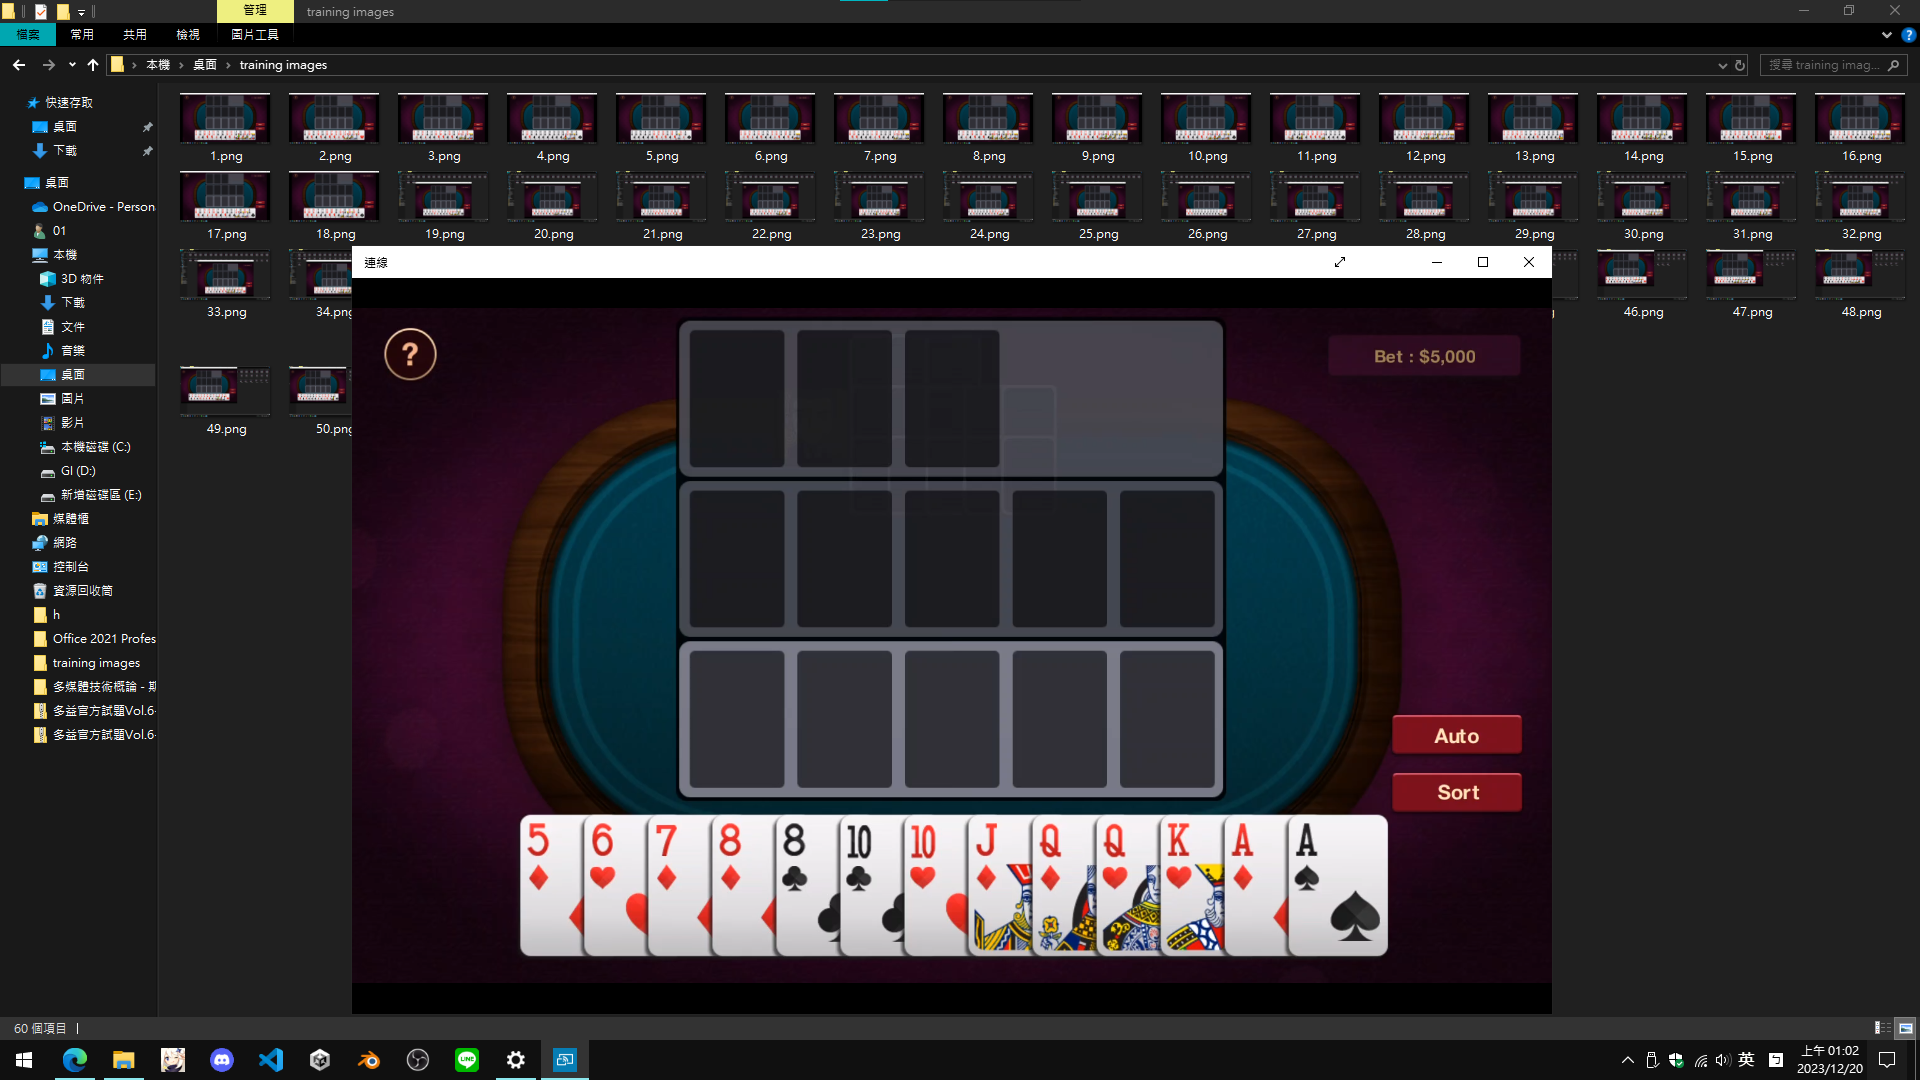10C: (845, 822, 875, 895)
10H: (907, 821, 941, 891)
5D: (524, 820, 552, 891)
6H: (588, 819, 618, 892)
7D: (652, 821, 684, 895)
8C: (780, 818, 811, 897)
8D: (716, 822, 746, 893)
AD: (1228, 819, 1256, 895)
AS: (1291, 821, 1326, 897)
JD: (972, 819, 1001, 892)
KH: (1165, 820, 1194, 890)
QD: (1037, 821, 1062, 897)
QH: (1100, 821, 1131, 895)
